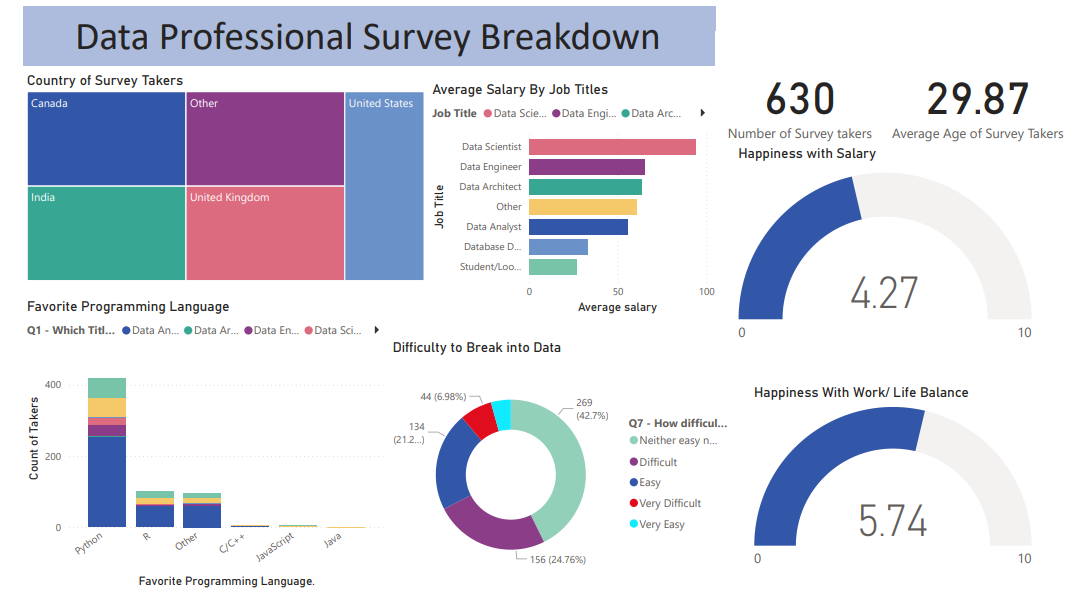

What the dashboard file says about the page in this screenshot:
{"tool":"powerbi","page":{"name":"Page 1","canvas":[1280,720],"ordinal":0},"visuals":[{"type":"textbox","box":[10,0,280,280],"z":0},{"type":"textbox","box":[10,290,280,280],"z":1000},{"type":"textbox","box":[10,570,280,150],"z":2000},{"type":"textbox","box":[10,7,839,72],"z":3000},{"type":"card","fields":{"Values":["CountNonNull(Data Professional Survey.Unique ID)"]},"box":[848.5,36.7,206.1,169.4],"z":4000},{"type":"card","fields":{"Values":["Avg(Data Professional Survey.Q10 - Current Age)"]},"box":[1054.6,36.7,224.5,169.4],"z":5000},{"type":"barChart","title":"Average Salary By Job Titles","fields":{"Category":["Data Professional Survey.Q1 - Which Title Best Fits your Current Role?.1"],"Y":["Avg(Data Professional Survey.Average_Salary)"],"Series":["Data Professional Survey.Q1 - Which Title Best Fits your Current Role?.1"]},"box":[501.2,97.4,351.5,286.6],"z":6000},{"type":"columnChart","title":"Favorite Programming Language","fields":{"Category":["Data Professional Survey.Q5 - Favorite Programming Language.1"],"Y":["CountNonNull(Data Professional Survey.Unique ID)"],"Series":["Data Professional Survey.Q1 - Which Title Best Fits your Current Role?.1"]},"box":[9.9,360,443.3,355.8],"z":7000},{"type":"treemap","title":"Country of Survey Takers","fields":{"Group":["Data Professional Survey.Q11 - Which Country do you live in?.1"],"Values":["Count(Data Professional Survey.Q11 - Which Country do you live in?.1)"]},"box":[9.9,86.1,491.3,258.4],"z":8000},{"type":"gauge","title":"Happiness With Work/ Life Balance","fields":{"Y":["Avg(Data Professional Survey.Q6 - How Happy are you in your Current Position with the following? (Work/Life Balance))"],"MinValue":["Min(Data Professional Survey.Q6 - How Happy are you in your Current Position with the following? (Work/Life Balance))"],"MaxValue":["Max(Data Professional Survey.Q6 - How Happy are you in your Current Position with the following? (Work/Life Balance))1"]},"box":[890.8,464.5,345.9,235.8],"z":9000},{"type":"gauge","title":"Happiness with Salary","fields":{"Y":["Avg(Data Professional Survey.Q6 - How Happy are you in your Current Position with the following? (Salary))"],"MinValue":["Min(Data Professional Survey.Q6 - How Happy are you in your Current Position with the following? (Salary))"],"MaxValue":["Max(Data Professional Survey.Q6 - How Happy are you in your Current Position with the following? (Salary))"]},"box":[872.5,175.1,364.2,255.5],"z":10000},{"type":"donutChart","title":"Difficulty to Break into Data","fields":{"Category":["Data Professional Survey.Q7 - How difficult was it for you to break into Data?"],"Y":["CountNonNull(Data Professional Survey.Q7 - How difficult was it for you to break into Data?)"]},"box":[453.2,409.4,419.3,310.6],"z":10001}]}

Visuals, with their boxes in screenshot pixels (x1, y1, x2, y2), scaled from the page's 1280x720 canvas onto the 1089x613 screenshot:
textbox: 9:0:247:238
textbox: 9:247:247:485
textbox: 9:485:247:612
textbox: 9:6:722:67
card - CountNonNull(Data Professional Survey.Unique ID): 722:31:897:175
card - Avg(Data Professional Survey.Q10 - Current Age): 897:31:1088:175
"Average Salary By Job Titles" barChart: 426:83:725:327
"Favorite Programming Language" columnChart: 8:306:386:609
"Country of Survey Takers" treemap: 8:73:426:293
"Happiness With Work/ Life Balance" gauge: 758:395:1052:596
"Happiness with Salary" gauge: 742:149:1052:367
"Difficulty to Break into Data" donutChart: 386:349:742:612
